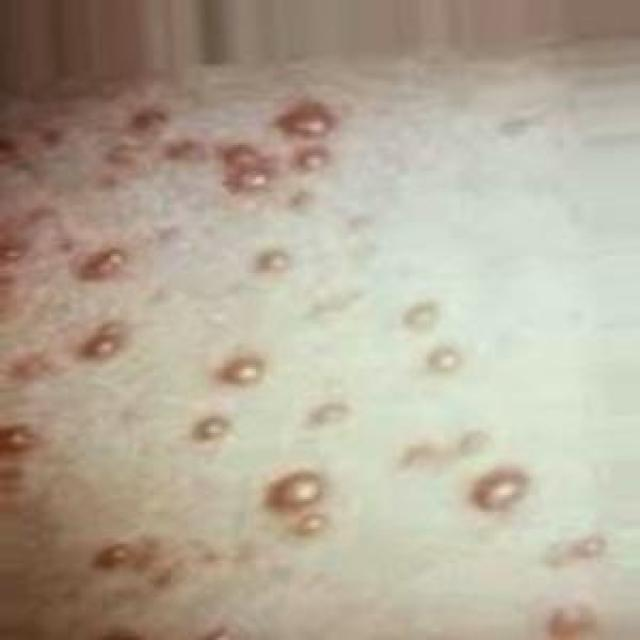Shingles: (471, 466, 528, 512), (267, 470, 326, 513), (278, 99, 336, 136), (549, 532, 607, 566), (81, 324, 127, 362), (80, 247, 127, 281), (549, 604, 595, 638), (5, 348, 52, 380), (221, 355, 266, 386), (308, 400, 352, 428), (400, 441, 442, 470), (0, 423, 36, 455), (402, 301, 440, 331), (192, 415, 230, 443), (95, 542, 133, 570), (457, 428, 492, 458), (427, 345, 463, 374), (233, 165, 271, 192), (296, 145, 331, 173), (131, 107, 169, 132), (104, 143, 142, 168), (256, 248, 292, 274), (299, 515, 330, 540), (0, 243, 25, 264)
